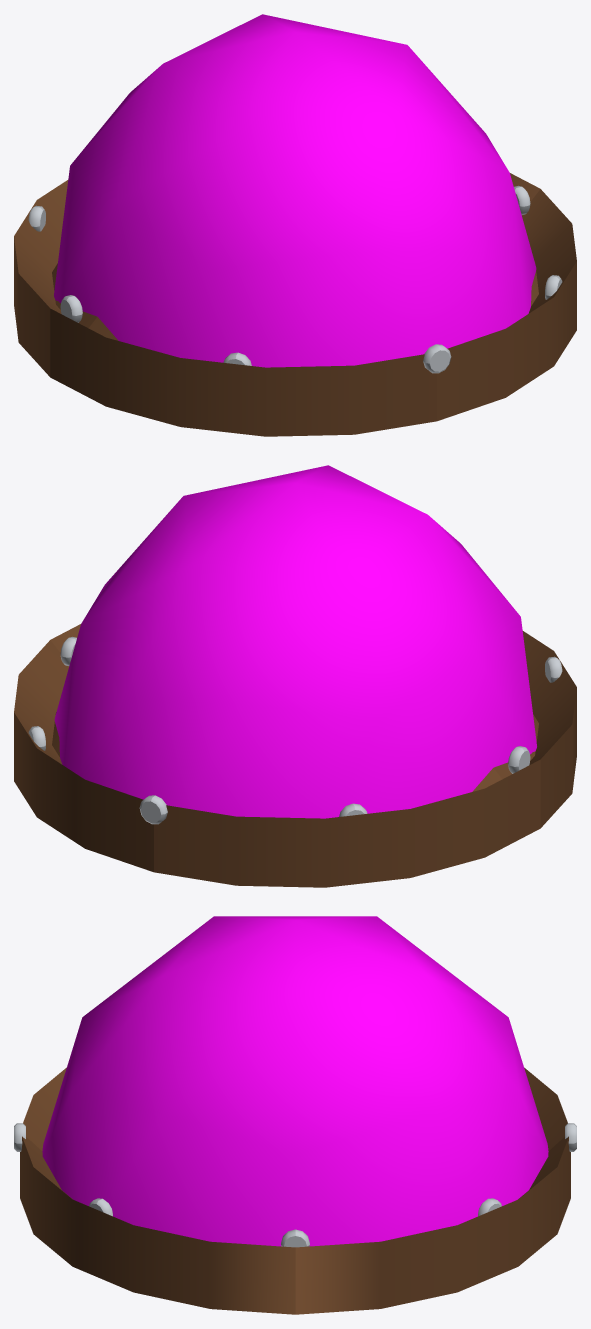
File: objet_armure1_casque.glb
The picture shows the model from 3 angles, top to bottom: view 1: azimuth 30°, elevation 25°; view 2: azimuth 150°, elevation 25°; view 3: azimuth 270°, elevation 25°; orthographic projection. The views are drawn at different scales.
Visible parts, largest first — view 1: casque_teinte.004, casque_sac_cuir.002, casque_rivet.004; view 2: casque_teinte.004, casque_sac_cuir.002, casque_rivet.004; view 3: casque_teinte.004, casque_sac_cuir.002, casque_rivet.004.
Part boxes in pixels (box(x1,y1,x2,y2)): casque_teinte.004: box(54, 14, 536, 367); casque_sac_cuir.002: box(14, 173, 576, 436); casque_rivet.004: box(28, 185, 562, 373); casque_teinte.004: box(54, 465, 536, 818); casque_sac_cuir.002: box(14, 624, 576, 887); casque_rivet.004: box(28, 636, 562, 824); casque_teinte.004: box(42, 916, 548, 1246); casque_sac_cuir.002: box(20, 1067, 570, 1314); casque_rivet.004: box(14, 1123, 576, 1247).
Bounding box in the file's own units: 0.23 × 0.128 × 0.235.
